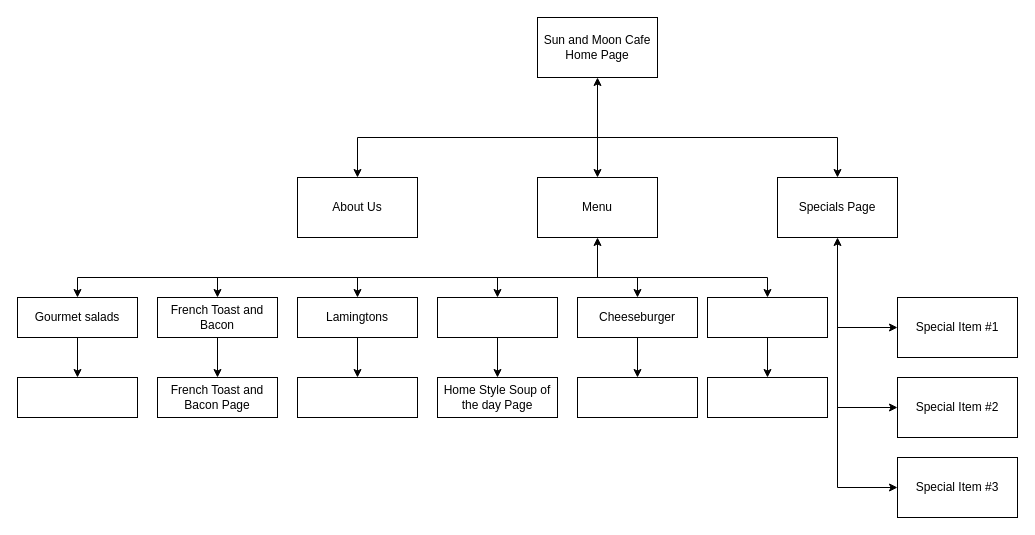
This 1035x535 diagram has some shape labels left out. Here are the shapes that lost their labels. From the top down, the centre of each, then its label:
At (x=497, y=317): "Home styles soup of the day".
At (x=767, y=317): "Sun and Moon Sandwich".
At (x=77, y=397): "Gourmet Salads page".
At (x=357, y=397): "Lamingtons page".
At (x=637, y=397): "Cheeseburger Page".
At (x=767, y=397): "Sun and Moon Sandwich Page".
